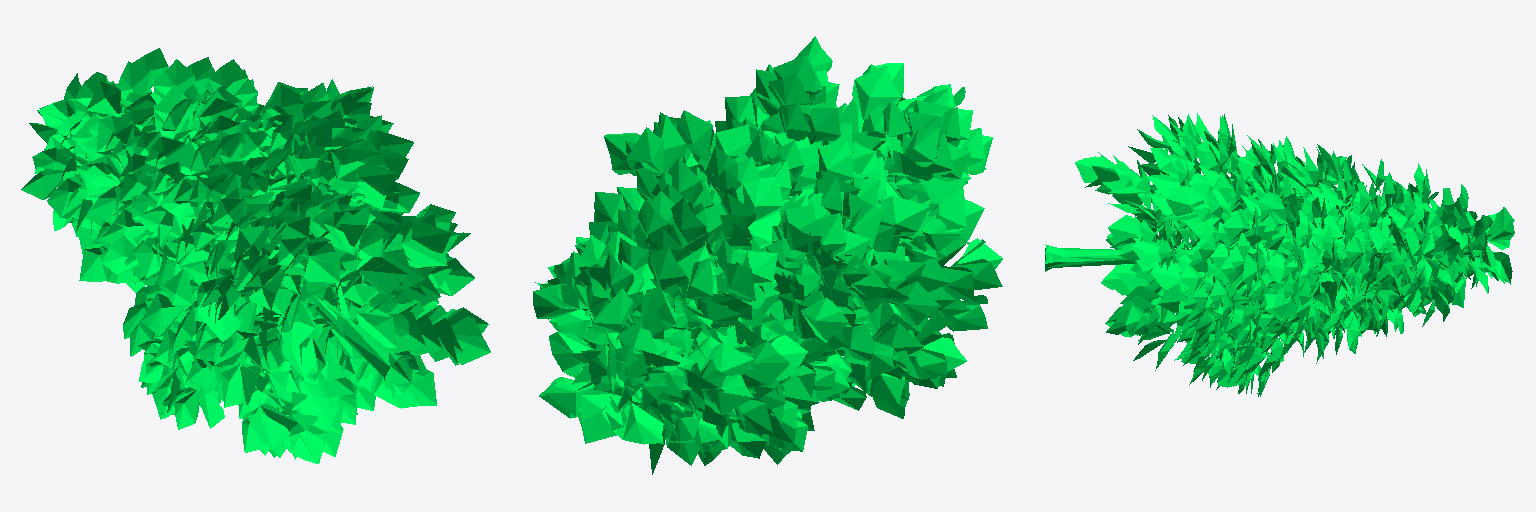
robot.urdf — Tree.obj:
<robot name="Tree.obj">
	<link name="_name">
		<visual>
			<origin rpy="0.0 0.0 0.0" xyz="-0.24465249999999994 -3.783716 2.409144" />
			<geometry>
				<mesh filename="Tree.obj" scale="1 1 1" />
			</geometry>
			<material name="texture">
				<color rgba="0 1.0 0.4 1.0" />
			</material>
		</visual>
		<collision>
			<origin rpy="0.0 0.0 0.0" xyz="-0.24465249999999994 -3.783716 2.409144" />
			<geometry>
				<mesh filename="Tree.obj" scale="1 1 1" />
			</geometry>
		</collision>
		<inertial>
			<mass value="1.0" />
			<inertia ixx="1.0" ixy="0.0" ixz="0.0" iyy="1.0" iyz="0.0" izz="1.0" />
		</inertial>
	</link>
</robot>

--- Facts derived from the render (not from the file) ---
3 views of the same robot in one strip: view 1: azimuth 30°, elevation 25°; view 2: azimuth 150°, elevation 25°; view 3: azimuth 270°, elevation 25° (orthographic).
Model Tree.obj with 1 links and 0 joints (none), rooted at _name, posed all joints at 0.
Visible links, largest first — view 1: _name; view 2: _name; view 3: _name.
Link boxes in pixels (x1=…): _name: x1=21, y1=48, x2=490, y2=463; _name: x1=533, y1=36, x2=1002, y2=474; _name: x1=1045, y1=113, x2=1514, y2=396.
Bounding box of the posed robot: 4.24 × 7.61 × 4.99 m (x, y, z).
1 mesh visuals loaded from 1 distinct referenced files (1 OBJ).